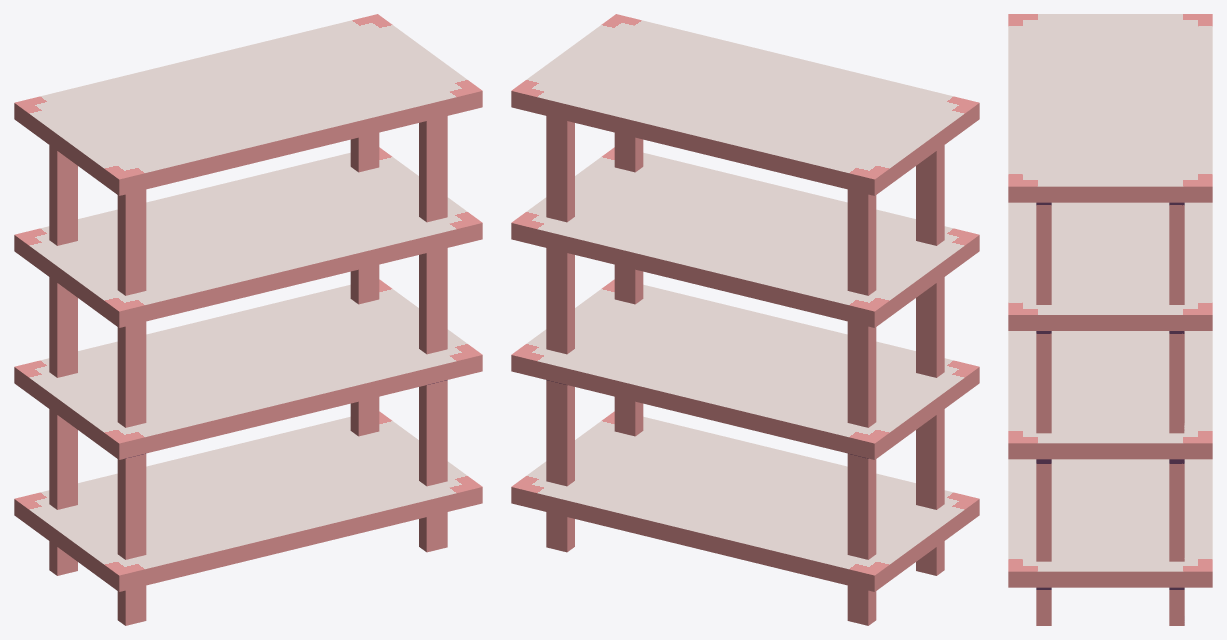
Rendered from Shelf_shkaf.gltf.
3 renders of one model, left to right at view 1: azimuth 30°, elevation 25°; view 2: azimuth 150°, elevation 25°; view 3: azimuth 270°, elevation 25°, orthographic. The views are drawn at different scales.
Visible parts, largest first — view 1: cuboid; view 2: cuboid; view 3: cuboid.
Boxes of the visible parts, x1,y1,x2,y2 form: cuboid: (14,14,482,625); cuboid: (511,14,979,625); cuboid: (1008,14,1212,625).
Bounding box in the file's own units: 1.75 × 2.12 × 0.875.
Materials: 1 (1 with a texture image).
